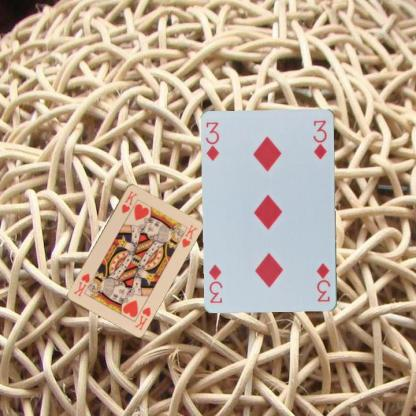3d: (314, 260, 332, 304), (203, 120, 221, 162)
Kh: (132, 304, 152, 331), (119, 188, 139, 214)
